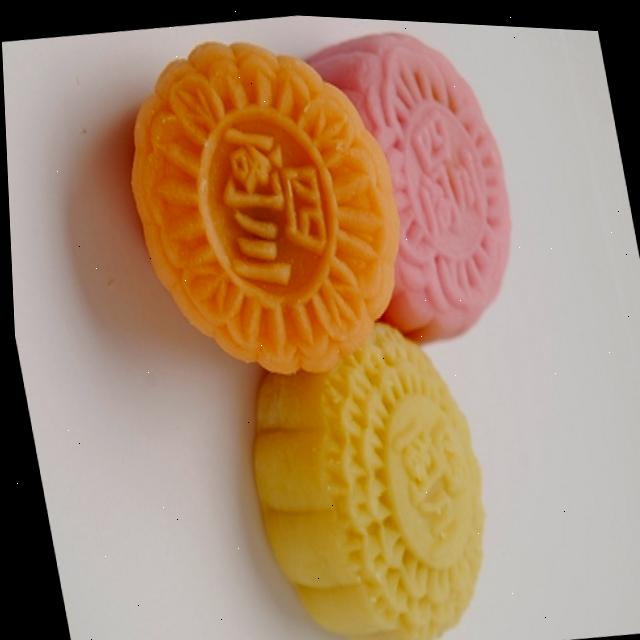蛋糕甜品: (72, 3, 608, 640)
